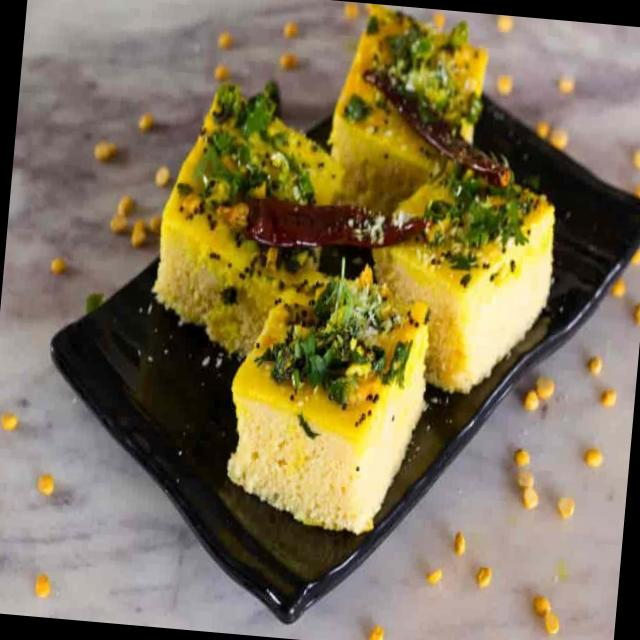dhokla: (148, 0, 577, 539)
